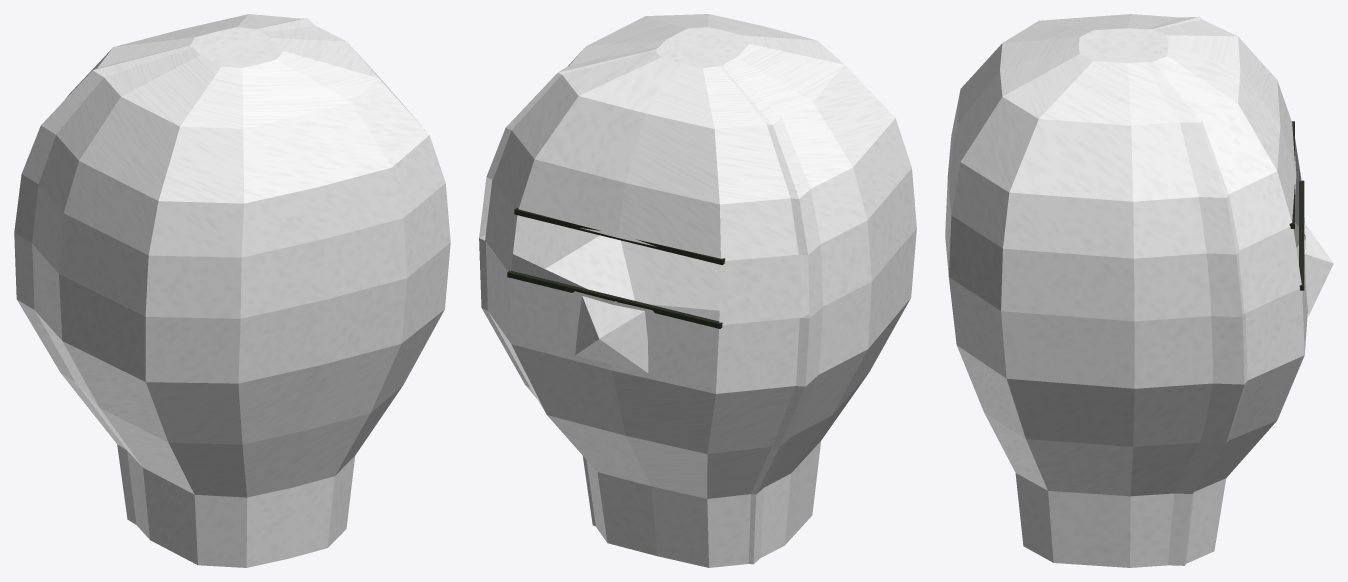
Rendered from head_balaclava.glb.
3 renders of one model, left to right at view 1: azimuth 30°, elevation 25°; view 2: azimuth 150°, elevation 25°; view 3: azimuth 270°, elevation 25°, orthographic.
Visible parts, largest first — view 1: head_balaclava_head_LOD0_RAID_cloth, head_balaclava_head_LOD1_RAID_cloth; view 2: head_balaclava_head_LOD0_RAID_cloth, head_balaclava_head_LOD1_RAID_cloth, head_balaclava_head_LOD0_RAID_seam; view 3: head_balaclava_head_LOD0_RAID_cloth, head_balaclava_head_LOD1_RAID_cloth, head_balaclava_head_LOD0_RAID_seam.
Part boxes in pixels (bbox=[...]): head_balaclava_head_LOD0_RAID_cloth: bbox=[32, 14, 450, 567]; head_balaclava_head_LOD1_RAID_cloth: bbox=[14, 18, 315, 524]; head_balaclava_head_LOD0_RAID_cloth: bbox=[485, 14, 916, 567]; head_balaclava_head_LOD1_RAID_cloth: bbox=[479, 28, 822, 564]; head_balaclava_head_LOD0_RAID_seam: bbox=[507, 208, 725, 328]; head_balaclava_head_LOD0_RAID_cloth: bbox=[945, 14, 1333, 567]; head_balaclava_head_LOD1_RAID_cloth: bbox=[1080, 16, 1305, 565]; head_balaclava_head_LOD0_RAID_seam: bbox=[1289, 121, 1304, 290].
Size of the model in its own units: 0.304 by 0.397 by 0.291.
2 materials, 2 textured.
